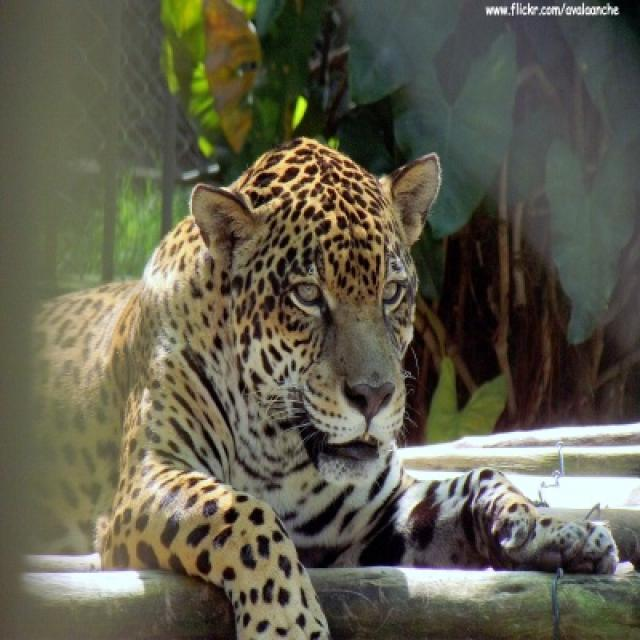Cheetah: (48, 138, 616, 638)
